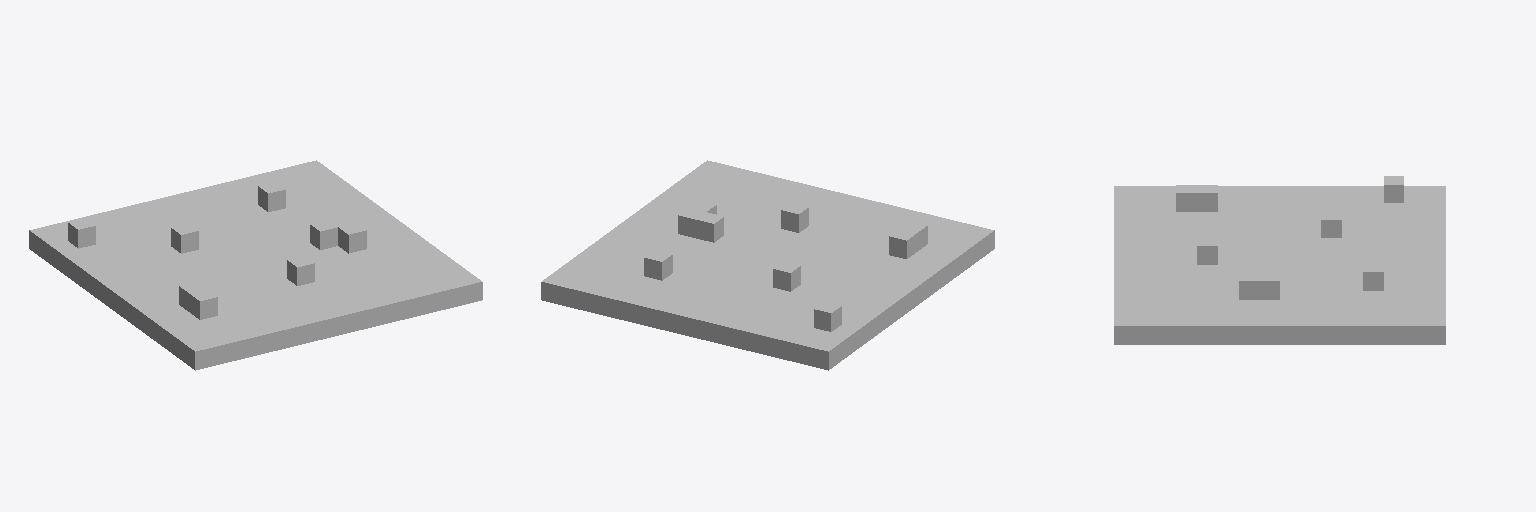
Rendered from Ground1.obj.
3 views of the same model, side by side, from view 1: azimuth 30°, elevation 25°; view 2: azimuth 150°, elevation 25°; view 3: azimuth 270°, elevation 25° (orthographic).
Parts seen in each view (by area): view 1: object 1; view 2: object 1; view 3: object 1.
Boxes of the visible parts, x1,y1,x2,y2 form: object 1: [29, 160, 482, 370]; object 1: [541, 160, 994, 370]; object 1: [1114, 176, 1445, 344].
Size of the model in its own units: 1.6 by 0.2 by 1.6.